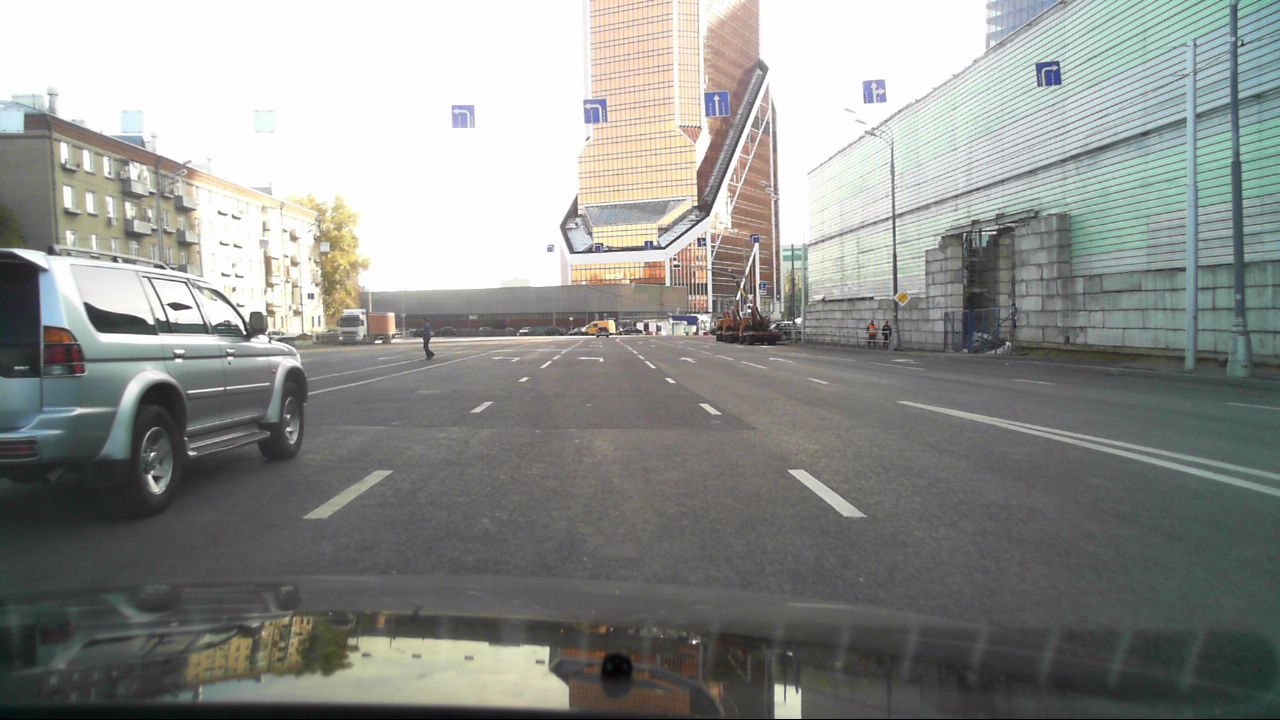main road: (892, 289, 912, 310)
